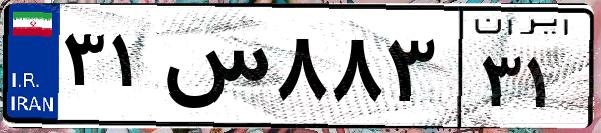1: (525, 38, 570, 115), (110, 28, 158, 98)
3: (385, 28, 445, 110), (57, 26, 110, 100), (475, 38, 525, 113)
8: (270, 28, 330, 110), (330, 28, 385, 110)
س: (158, 20, 270, 120)
